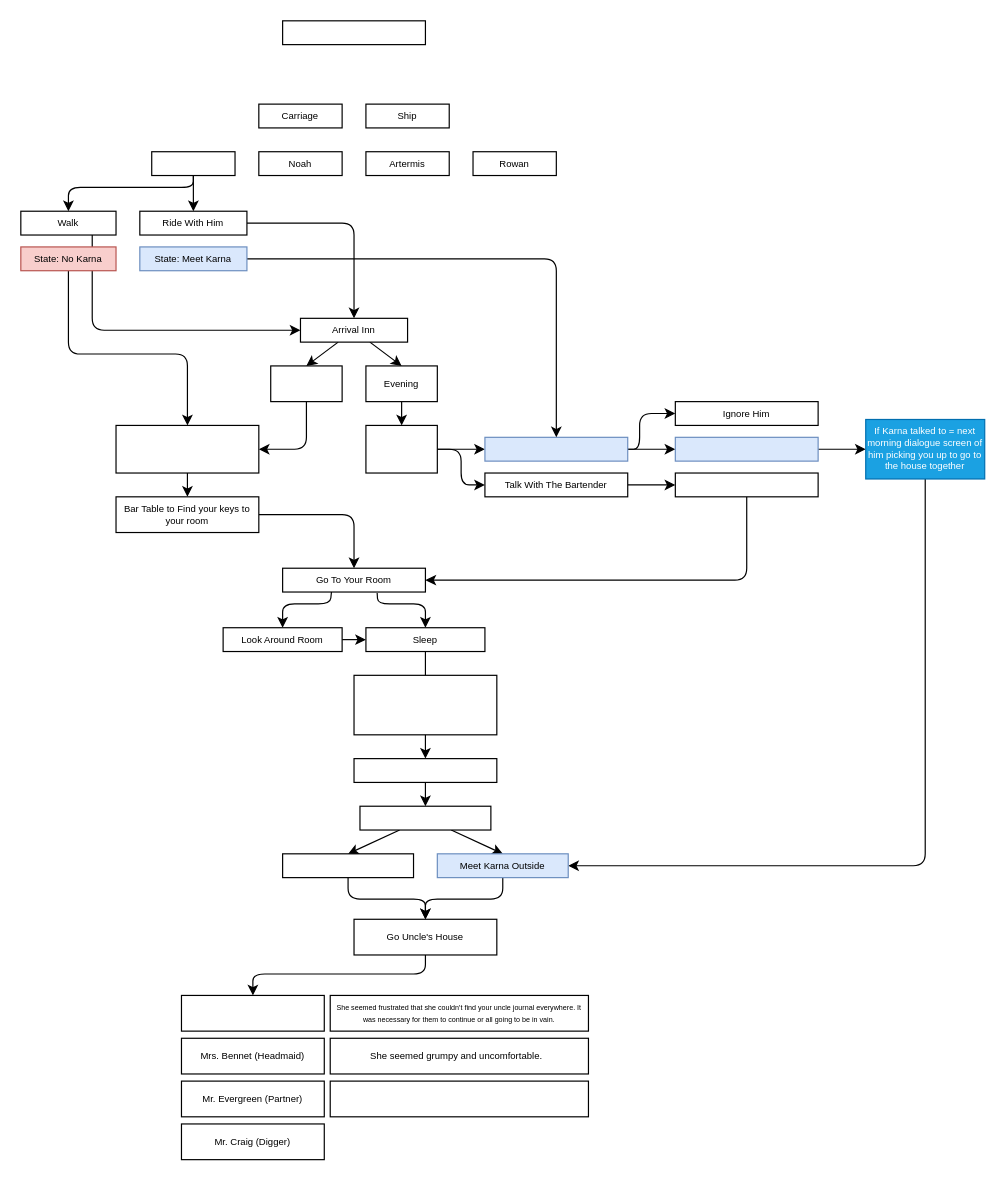
This 1006x1180 diagram has some shape labels left out. The centre of each missing label's shape, as x and y in pixels:
"Chapter 1" belongs at pixel 425 704.
"Day 1 Morning" belongs at pixel 425 769.
"Elyes" belongs at pixel 193 163.
"Get Dressed and Leave" belongs at pixel 425 817.
"Go on Your Own" belongs at pixel 347 865.
"Introduce yourself to Him" belongs at pixel 746 448.
"Introduction" belongs at pixel 353 32.
"Late Night" belongs at pixel 306 383.
"Ms. Smith (Assistant)" belongs at pixel 252 1012.
"Talk and Get the Key" belongs at pixel 746 484.
"Talk To Theodore at Bar" belongs at pixel 401 448.
"Talk With Karna" belongs at pixel 556 448.
"Theodore wait patiently If you late" belongs at pixel 187 448.
